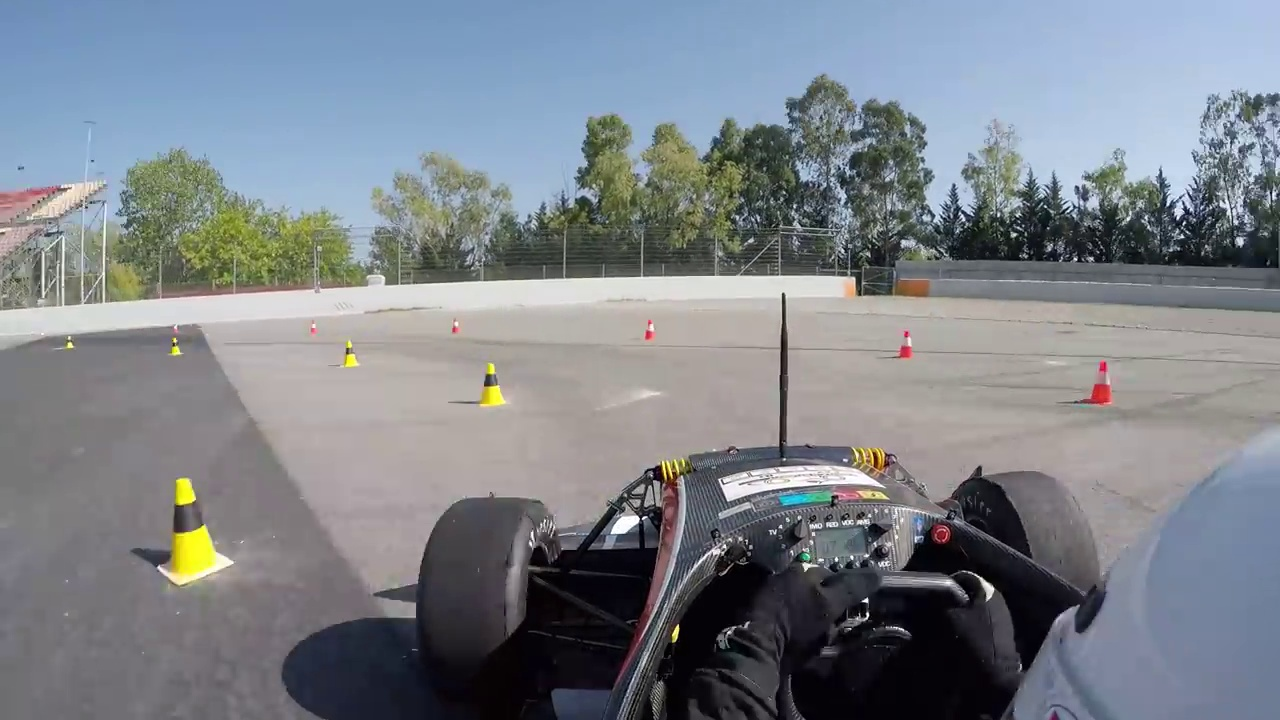Cone: (159, 475, 226, 585), (481, 359, 506, 406), (1089, 361, 1116, 404), (341, 336, 362, 367), (898, 327, 915, 358)
